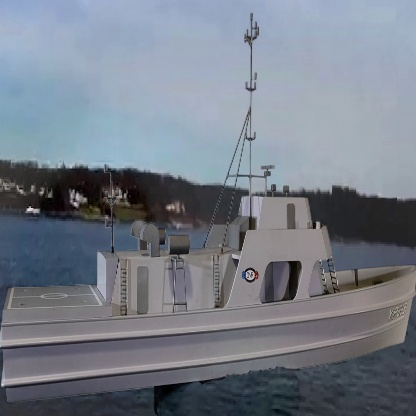YP689: (0, 10, 416, 406)
